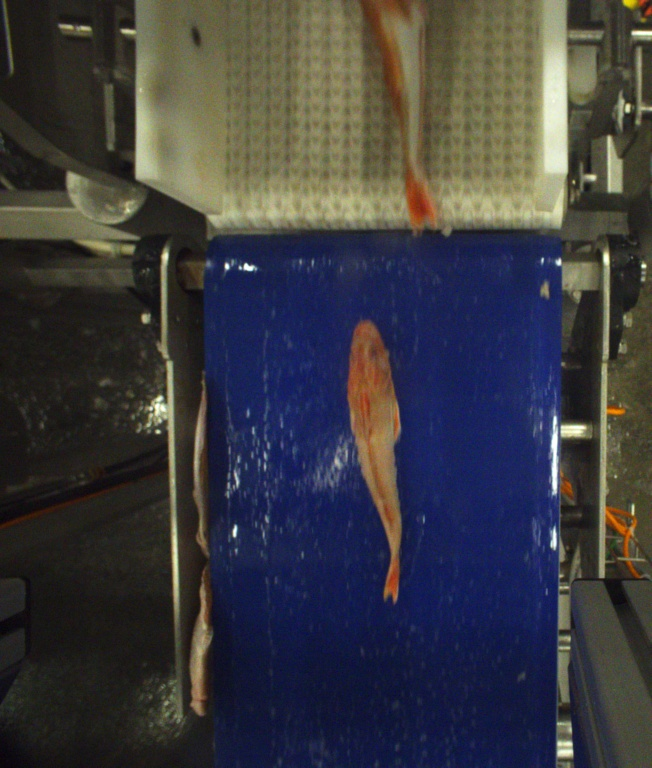GUU: (361, 0, 441, 237)
